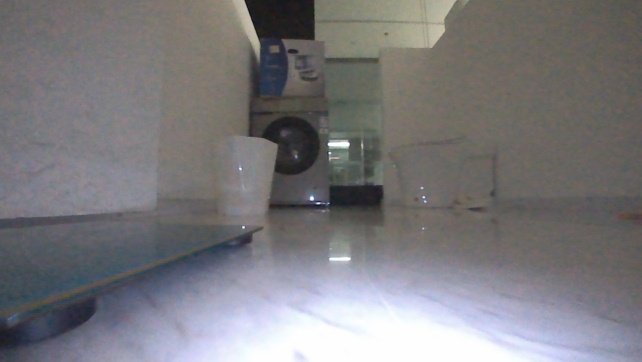toilet: (386, 131, 496, 210)
trash_can: (214, 131, 279, 220)
washing_machine: (249, 91, 331, 208)
weight_scale: (0, 217, 265, 345)
